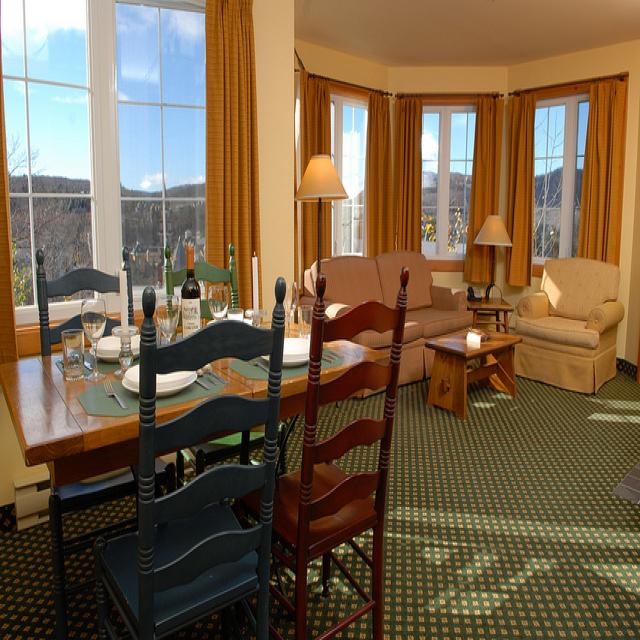chair: (94, 277, 286, 640), (269, 265, 409, 640), (514, 258, 625, 396), (37, 245, 135, 368), (165, 241, 242, 318)
dining table: (4, 308, 343, 450)
